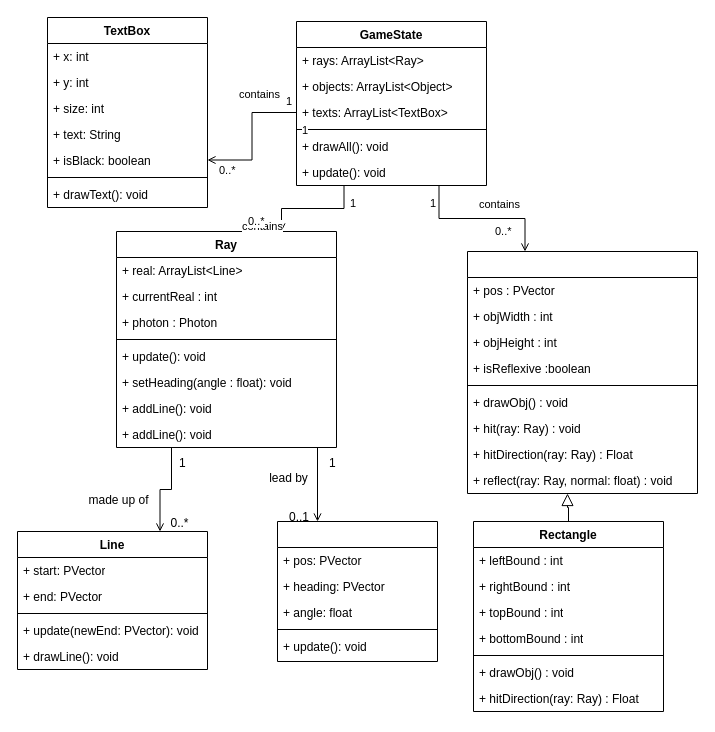
Some shapes in this 715 by 732 pixel diagram are drawn without their labels. Here are the shapes that lost their labels. From the top down, the box of each, then its label:
(466, 250, 698, 494): Object
(276, 520, 438, 662): Photon
